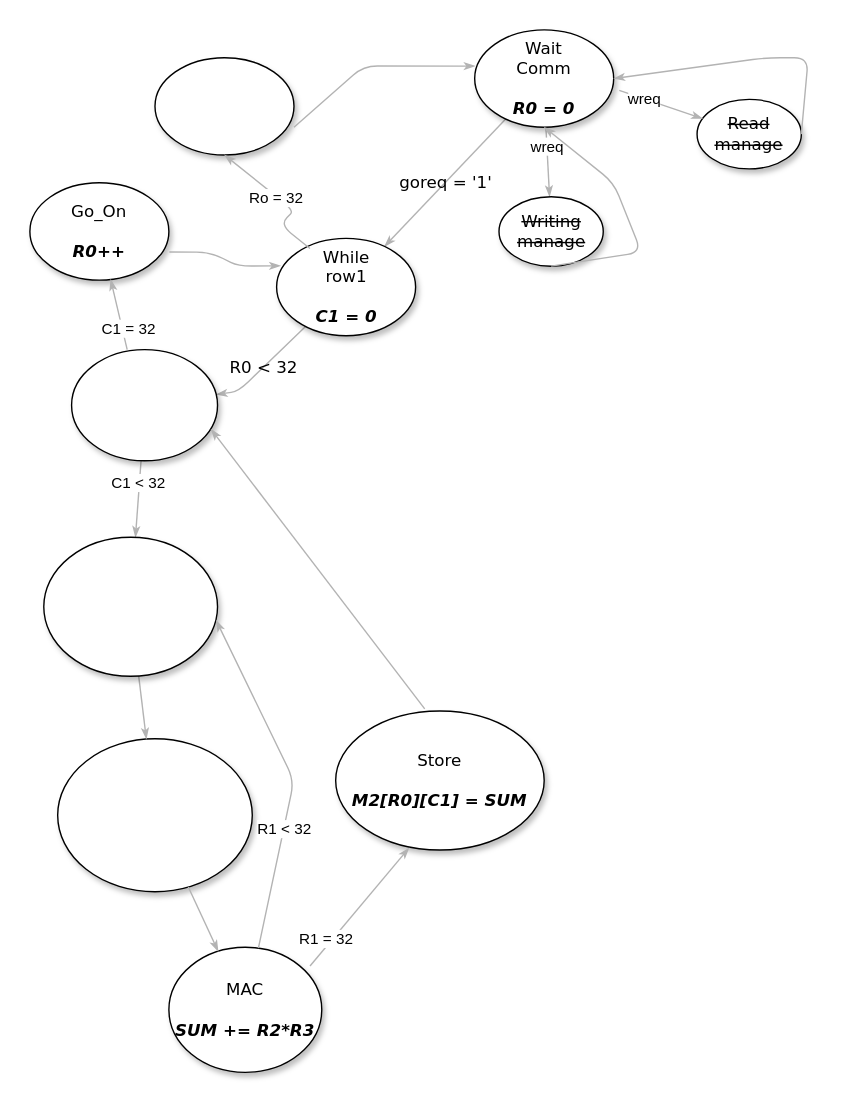
This 842x1106 diagram has some shape labels left out. The shapes that lost their labels are listed below. From the top down, each one's centre as x and y in pixels, then its label:
point 225,108: Done Finish = 1
point 145,407: While col2 C0 = 0 R1 = 0
point 131,608: GetFirst R2 = M0[R0][C0] C0++
point 156,816: GetSecond R3= M1[R1][C1] R1++
